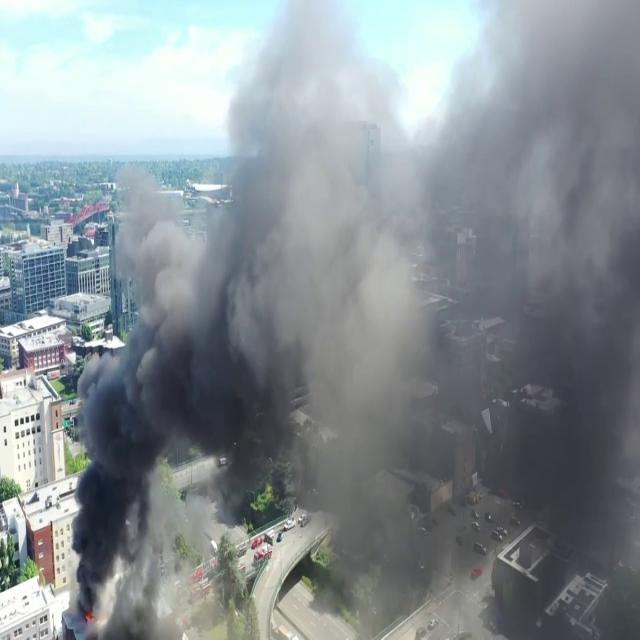Smoke: (70, 1, 640, 630)
